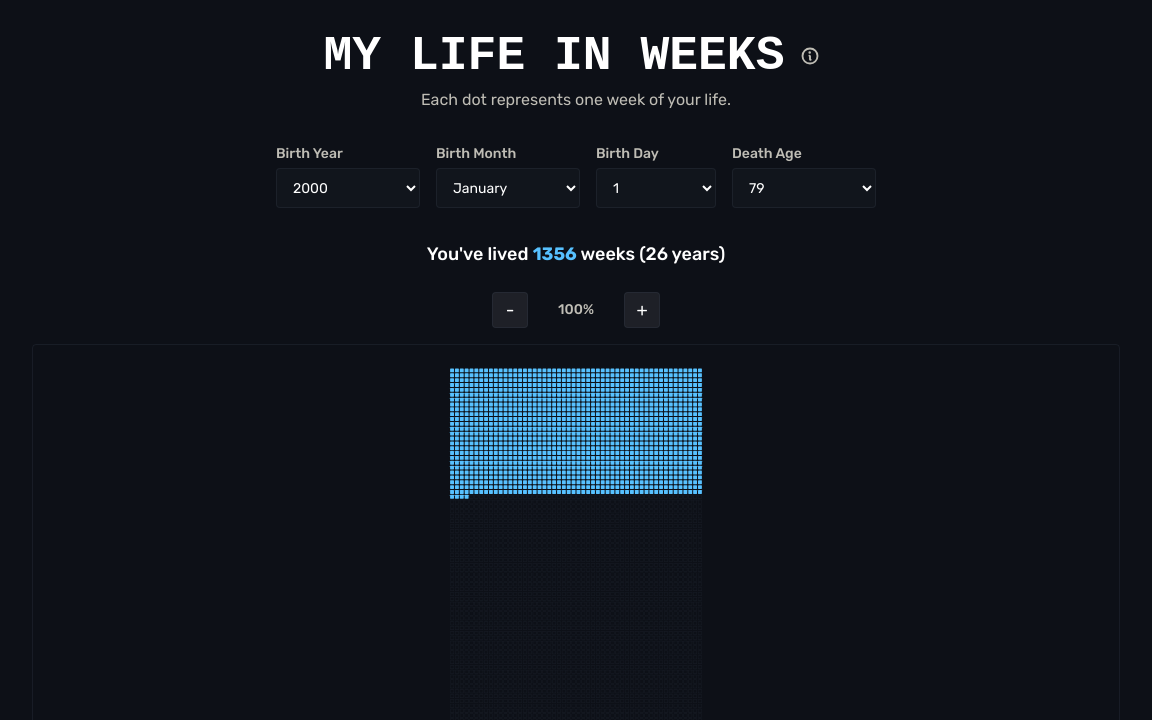
Test case: LifeView › zooms with buttons and disables zoom out at the minimum
Expected: the text "100%" is shown, [558,301,594,318]
Click the button named "zoom in": (642, 310) [624,292,660,328]
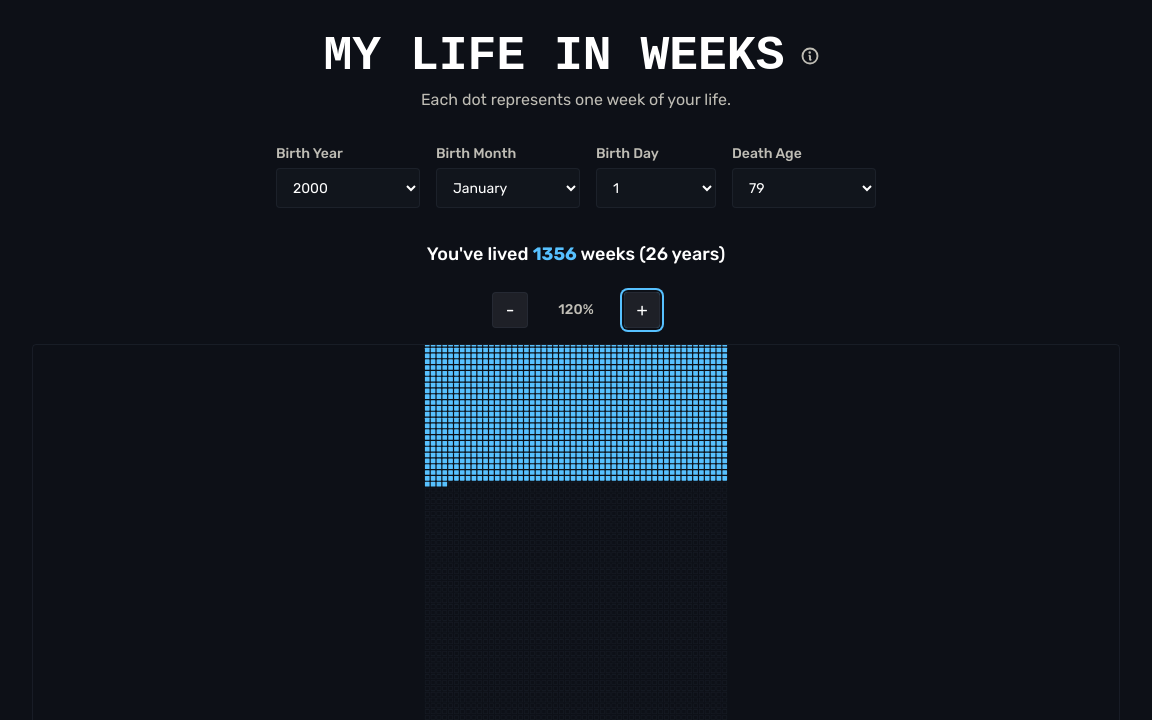
Expected: the text "120%" is shown, [558,301,594,318]
Click the button named "zoom out": (510, 310) [492,292,528,328]
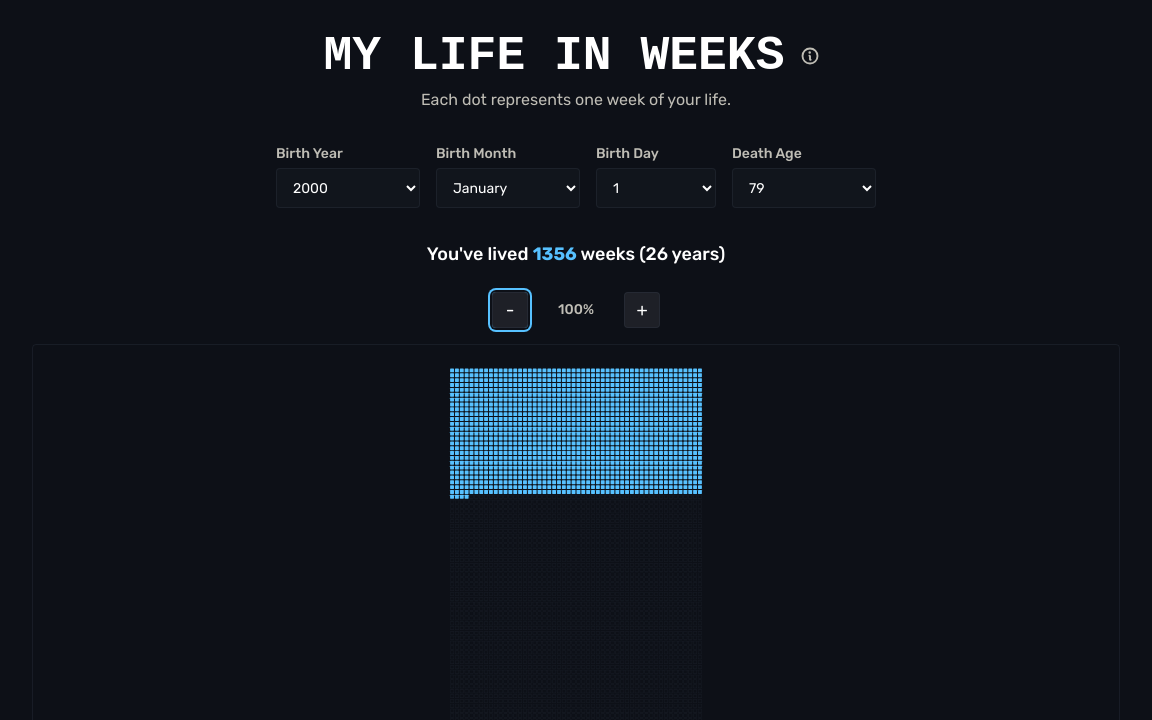
Click the button named "zoom out": (510, 310) [492,292,528,328]
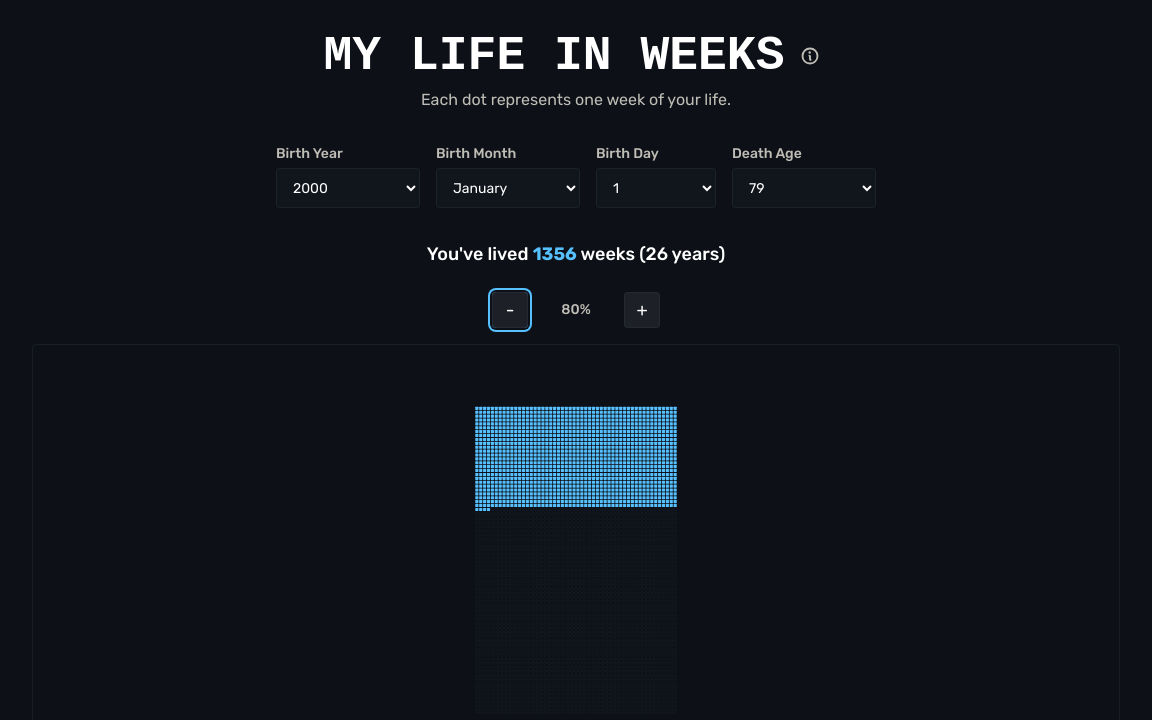
Click the button named "zoom out": (510, 310) [492,292,528,328]
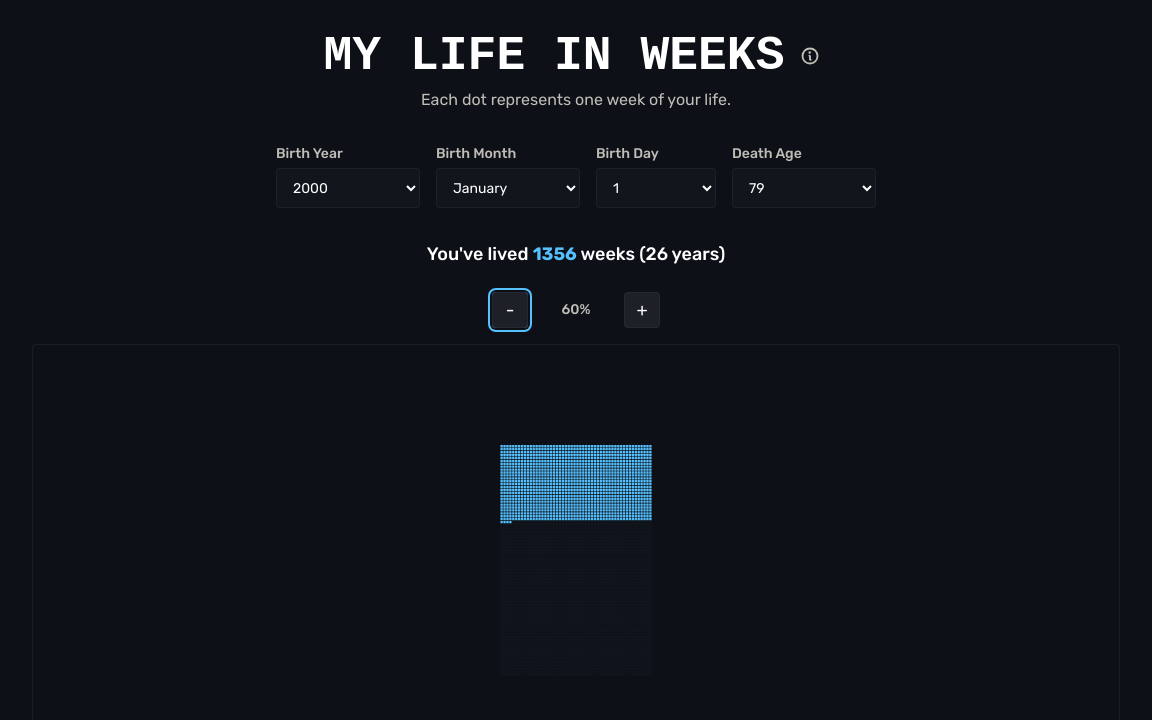
Click the button named "zoom out": (510, 310) [492,292,528,328]
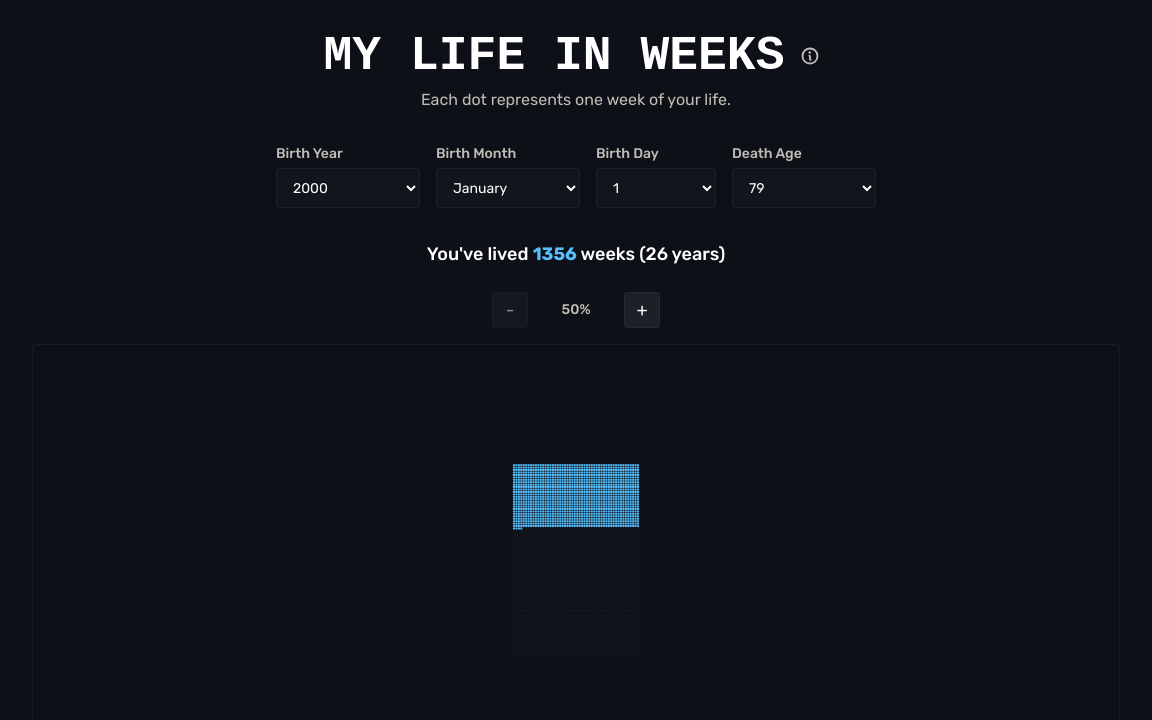
Expected: the text "50%" is shown, [562,301,590,318]
